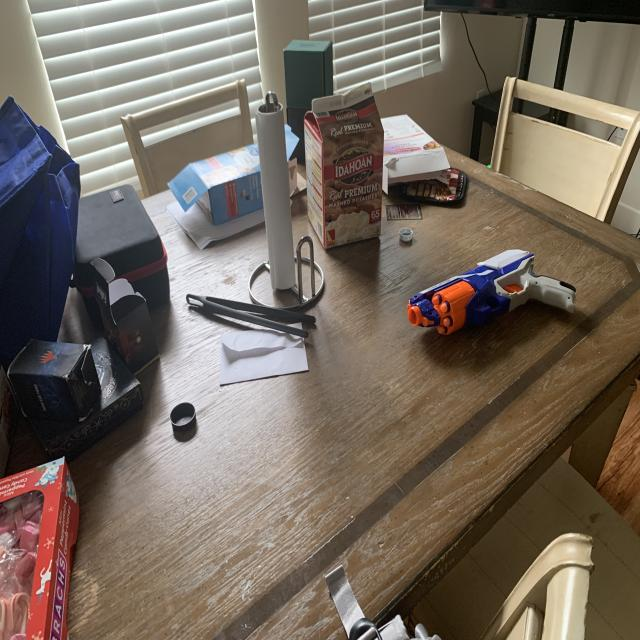nerf-maverik: (407, 240, 581, 352)
